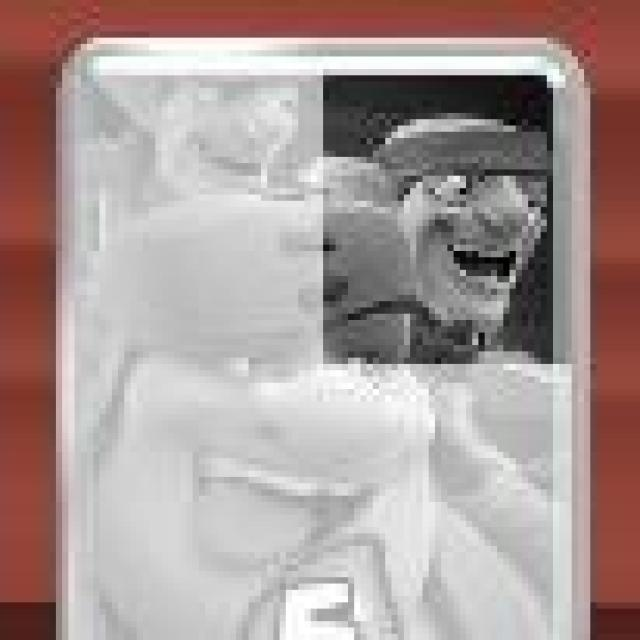Goblin_Giant: (51, 36, 591, 640)
